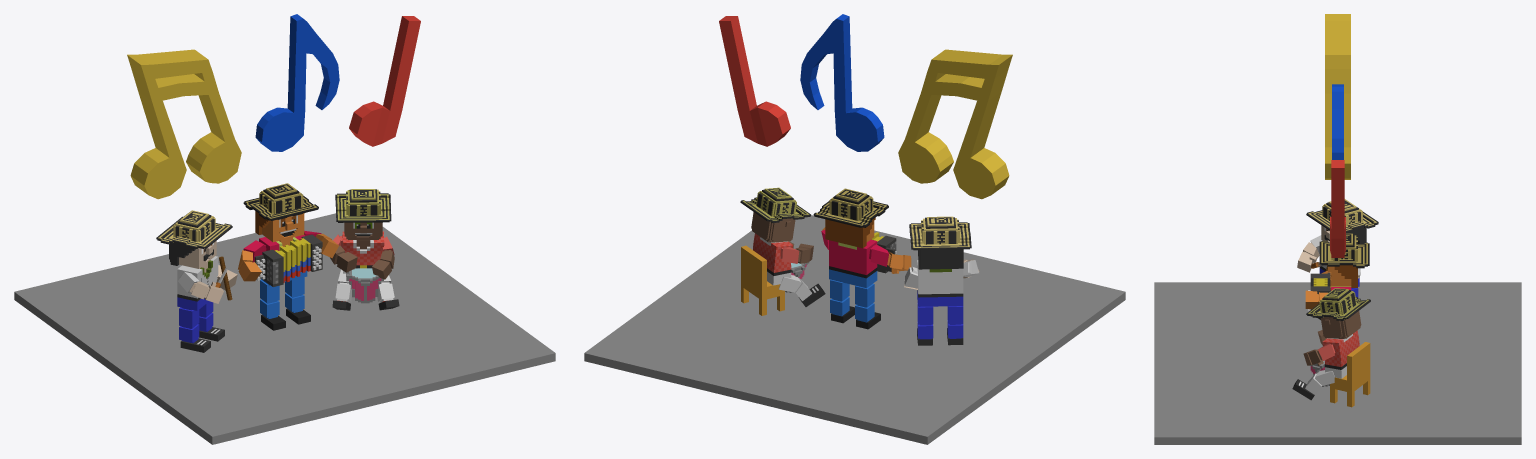
File: fiesta.glb
3 views of the same model, side by side, from view 1: azimuth 30°, elevation 25°; view 2: azimuth 150°, elevation 25°; view 3: azimuth 270°, elevation 25° (orthographic). The views are drawn at different scales.
Parts seen in each view (by area): view 1: Object_48, Object_45, Object_46, Object_47, Object_36, Object_9, Object_24, Object_17, Object_22, Object_10, Object_34, Object_33 (+8 smaller); view 2: Object_48, Object_45, Object_46, Object_47, Object_36, Object_10, Object_9, Object_19, Object_38, Object_11, Object_34, Object_24 (+8 smaller); view 3: Object_48, Object_45, Object_19, Object_47, Object_24, Object_22, Object_36, Object_46, Object_20, Object_9, Object_18, Object_26 (+5 smaller).
Part boxes in pixels (x1,y1,x2,y2): Object_48: [14, 213, 555, 444]; Object_45: [127, 49, 241, 199]; Object_46: [255, 14, 339, 151]; Object_47: [349, 16, 420, 146]; Object_36: [156, 211, 232, 352]; Object_9: [243, 184, 318, 330]; Object_24: [332, 189, 399, 310]; Object_17: [238, 213, 338, 281]; Object_22: [330, 222, 394, 279]; Object_10: [260, 270, 307, 318]; Object_34: [177, 297, 213, 343]; Object_33: [179, 241, 237, 303]; Object_48: [584, 215, 1125, 444]; Object_45: [898, 49, 1012, 199]; Object_46: [800, 14, 884, 151]; Object_47: [719, 16, 790, 146]; Object_36: [909, 217, 971, 345]; Object_10: [829, 269, 877, 322]; Object_9: [813, 189, 888, 329]; Object_19: [741, 245, 784, 315]; Object_38: [904, 260, 978, 294]; Object_11: [821, 230, 888, 274]; Object_34: [917, 290, 963, 339]; Object_24: [740, 188, 825, 306]; Object_48: [1154, 282, 1521, 444]; Object_45: [1325, 14, 1350, 179]; Object_19: [1330, 342, 1370, 407]; Object_47: [1330, 160, 1345, 257]; Object_24: [1292, 289, 1370, 400]; Object_22: [1303, 311, 1361, 365]; Object_36: [1306, 200, 1378, 319]; Object_46: [1332, 84, 1343, 159]; Object_20: [1308, 288, 1368, 319]; Object_9: [1319, 234, 1369, 268]; Object_18: [1321, 233, 1367, 265]; Object_26: [1318, 332, 1359, 366].
Size of the model in its own units: 4.03 by 3.48 by 4.03.
